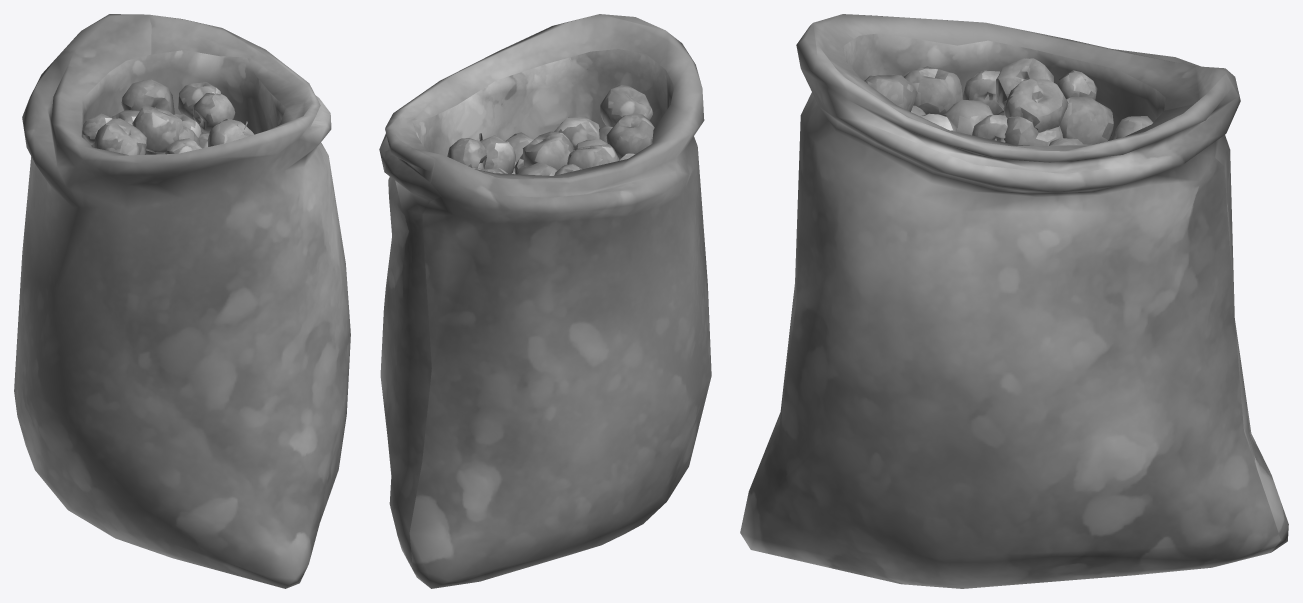
3 renders of one model, left to right at view 1: azimuth 30°, elevation 25°; view 2: azimuth 150°, elevation 25°; view 3: azimuth 270°, elevation 25°, orthographic. The views are drawn at different scales.
Visible parts, largest first — view 1: SM_Sack_Apple_02b_LOD0; view 2: SM_Sack_Apple_02b_LOD0; view 3: SM_Sack_Apple_02b_LOD0.
Boxes of the visible parts, x1,y1,x2,y2 form: SM_Sack_Apple_02b_LOD0: [14, 14, 350, 588]; SM_Sack_Apple_02b_LOD0: [379, 14, 711, 588]; SM_Sack_Apple_02b_LOD0: [740, 14, 1288, 588].
Bounding box in the file's own units: 65.83 × 94.51 × 97.29.
